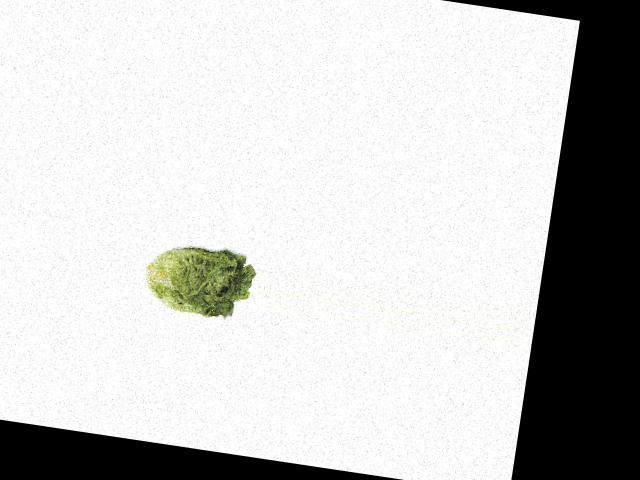lettuce: (139, 234, 256, 328)
